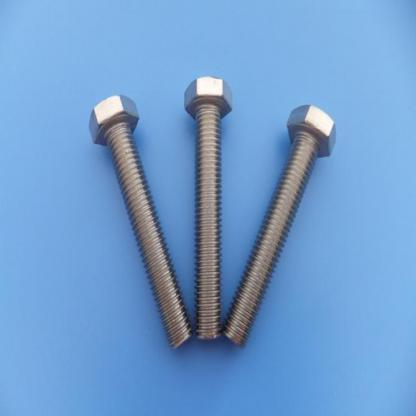FOD: (222, 102, 340, 350), (86, 93, 193, 353), (184, 74, 233, 345)
